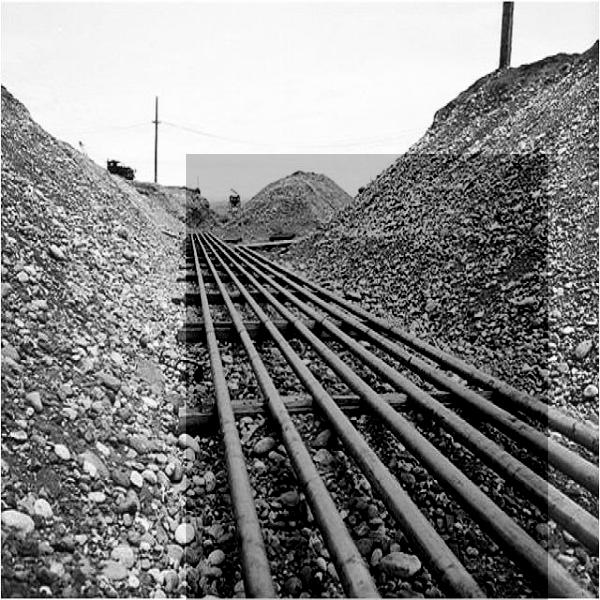no leak: (186, 154, 548, 600)
